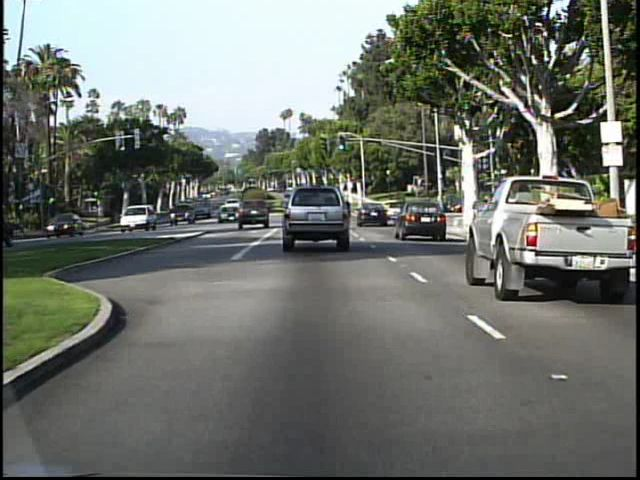car: (465, 176, 636, 300), (275, 177, 360, 256), (393, 199, 446, 241), (238, 196, 269, 230), (119, 201, 150, 235), (47, 205, 78, 239), (356, 202, 387, 226), (168, 206, 190, 224), (217, 203, 238, 221), (194, 201, 211, 218)
